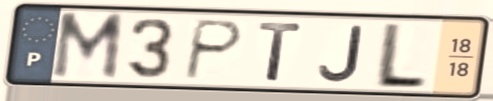3: (123, 16, 179, 80)
J: (315, 23, 365, 85)
L: (369, 20, 432, 91)
M: (48, 10, 128, 83)
P: (179, 17, 248, 82)
T: (255, 20, 306, 84)
